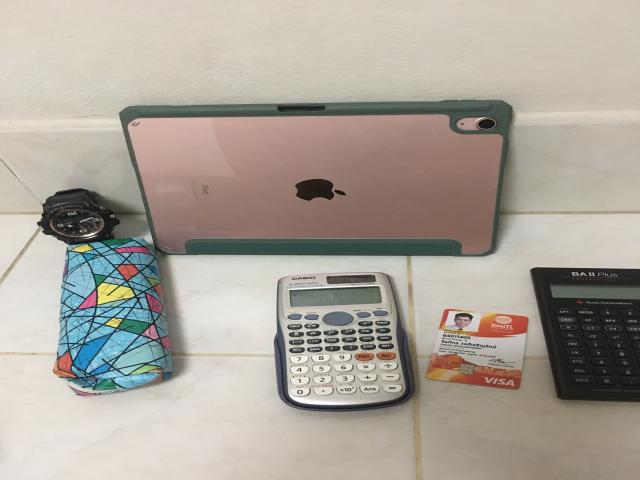Watch: (38, 188, 120, 245)
